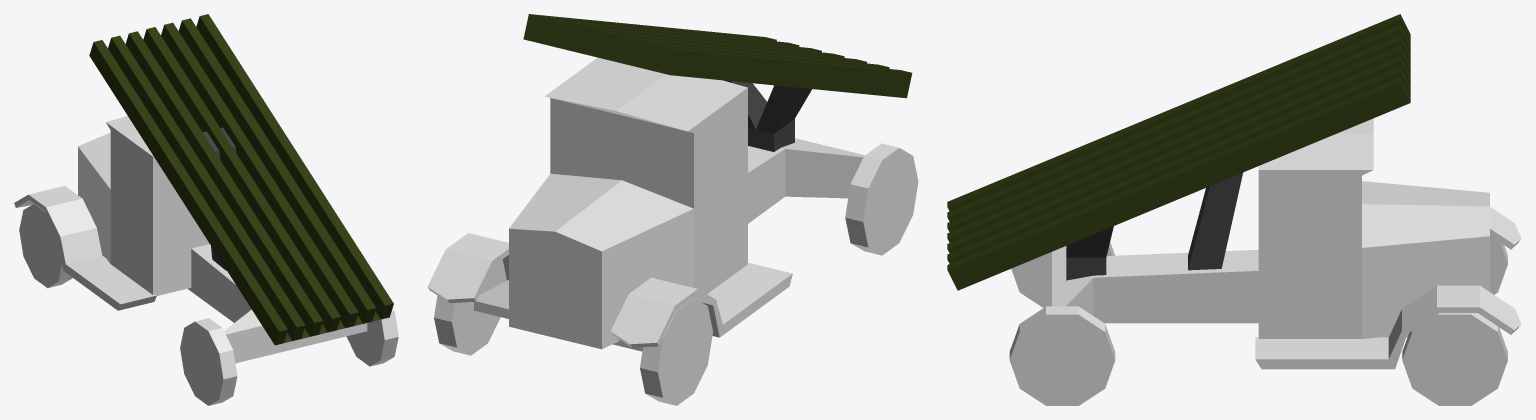
Rendered from Katyusha.fbx.
The picture shows the model from 3 angles, left to right: view 1: azimuth 30°, elevation 25°; view 2: azimuth 150°, elevation 25°; view 3: azimuth 270°, elevation 25°; orthographic projection. The views are drawn at different scales.
Parts seen in each view (by area): view 1: ZisKatyusha, Zis; view 2: Zis, ZisKatyusha; view 3: Zis, ZisKatyusha.
Boxes of the visible parts, box(x1,y1,x2,y2) form: ZisKatyusha: box(89, 14, 393, 345); Zis: box(14, 116, 398, 405); Zis: box(427, 57, 918, 405); ZisKatyusha: box(523, 14, 912, 151); Zis: box(1009, 118, 1521, 405); ZisKatyusha: box(947, 14, 1410, 290).
Size of the model in its own units: 245 by 556 by 326.
